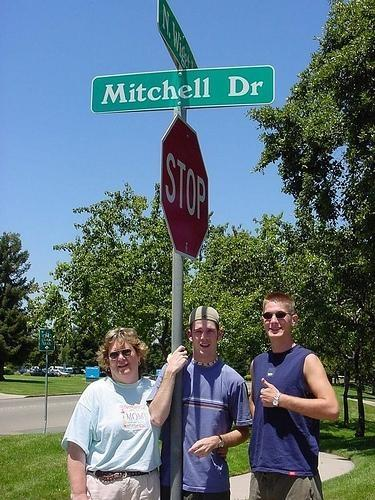car: (48, 366, 64, 374), (28, 369, 44, 376), (75, 368, 86, 374), (66, 366, 75, 373), (20, 369, 28, 374)
